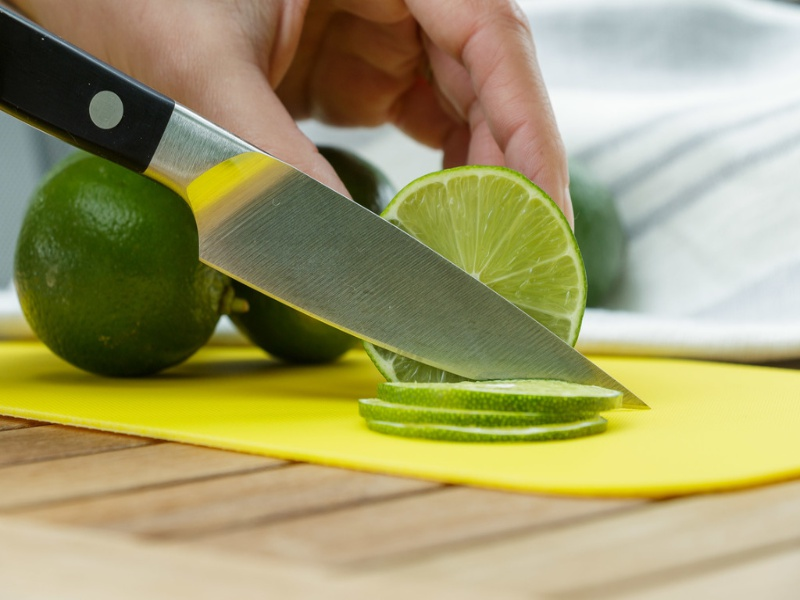knife: (3, 8, 656, 423)
